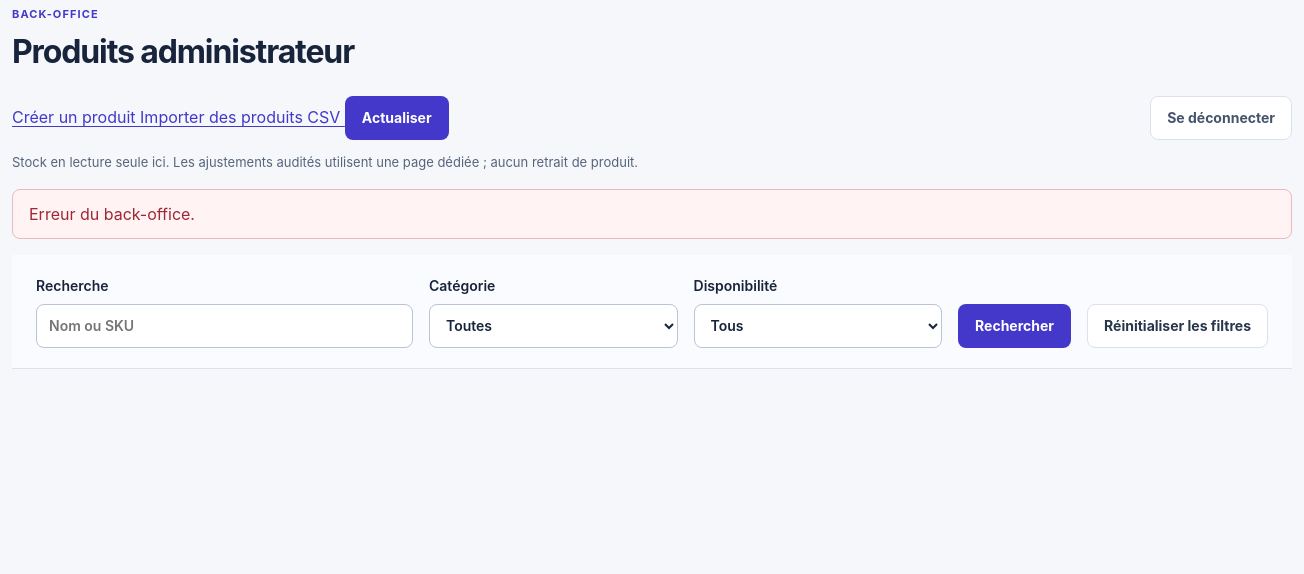
Test case: list errors are sanitized and can be refreshed (500)
Check: the message "Erreur du back-office." is shown, box [12, 189, 1292, 239]
Step 1. Click the button "Actualiser" → click(397, 118), box [345, 96, 449, 140]
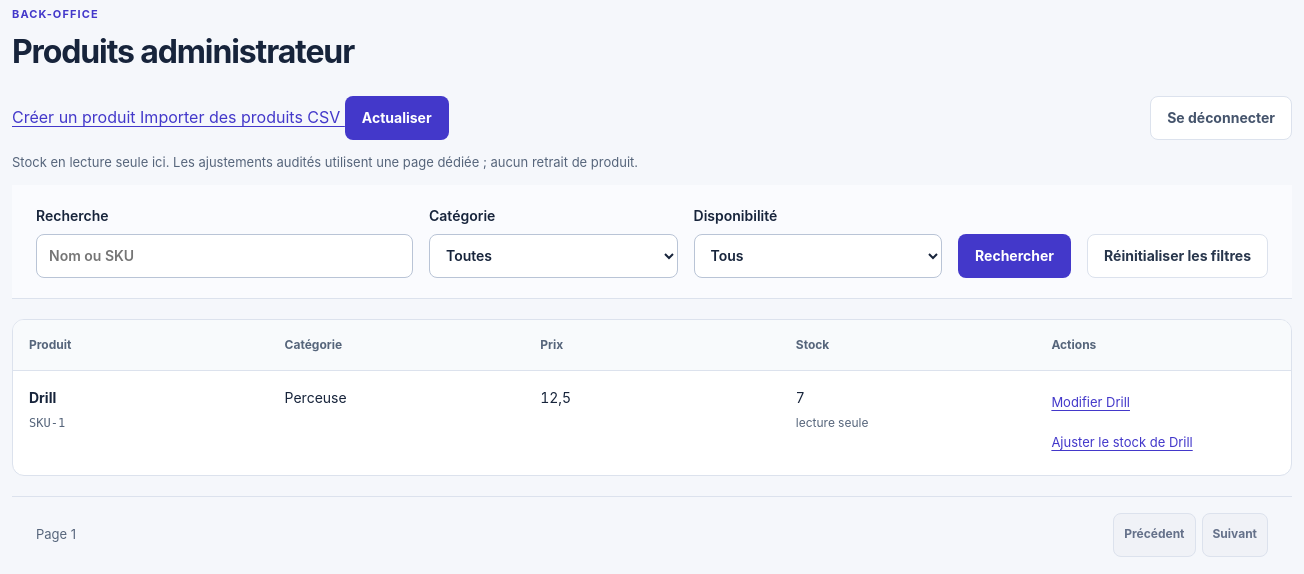
Check: the text "Drill" is shown, box [29, 389, 56, 406]
